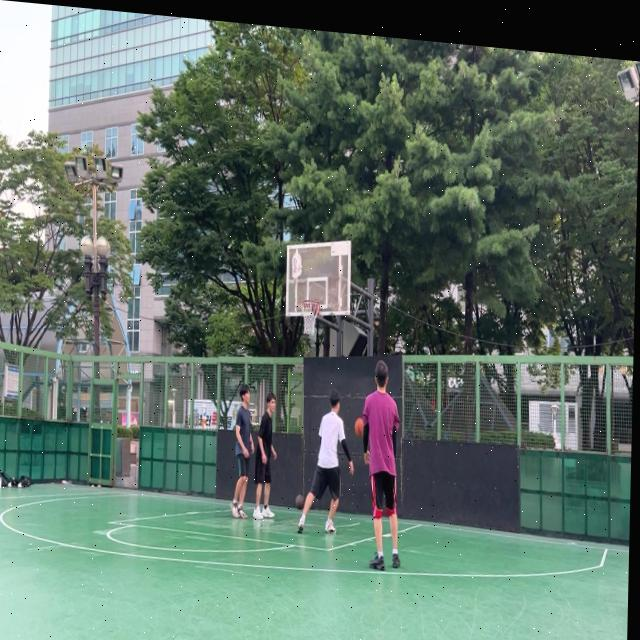basketball: (355, 417, 364, 438), (295, 494, 305, 511)
hoop: (299, 298, 321, 336)
